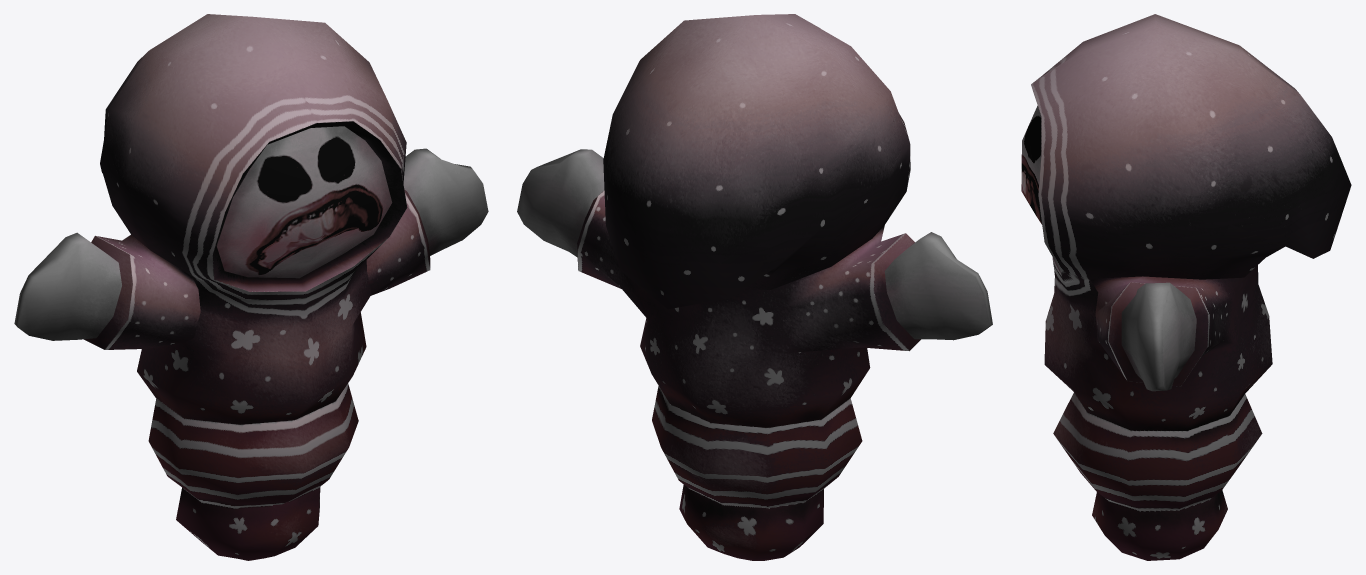
The model's file is cuteandhorror_dollbyshyson.glb.
3 views of the same model, side by side, from view 1: azimuth 30°, elevation 25°; view 2: azimuth 150°, elevation 25°; view 3: azimuth 270°, elevation 25° (orthographic).
Visible parts, largest first — view 1: HorrorDoll; view 2: HorrorDoll; view 3: HorrorDoll.
Part boxes in pixels (left/top/right/bottom): HorrorDoll: left=14, top=14, right=488, bottom=560; HorrorDoll: left=517, top=14, right=992, bottom=560; HorrorDoll: left=1021, top=14, right=1351, bottom=560.
Bounding box in the file's own units: 20.05 × 21.8 × 12.37.
2 materials, 2 textured.
